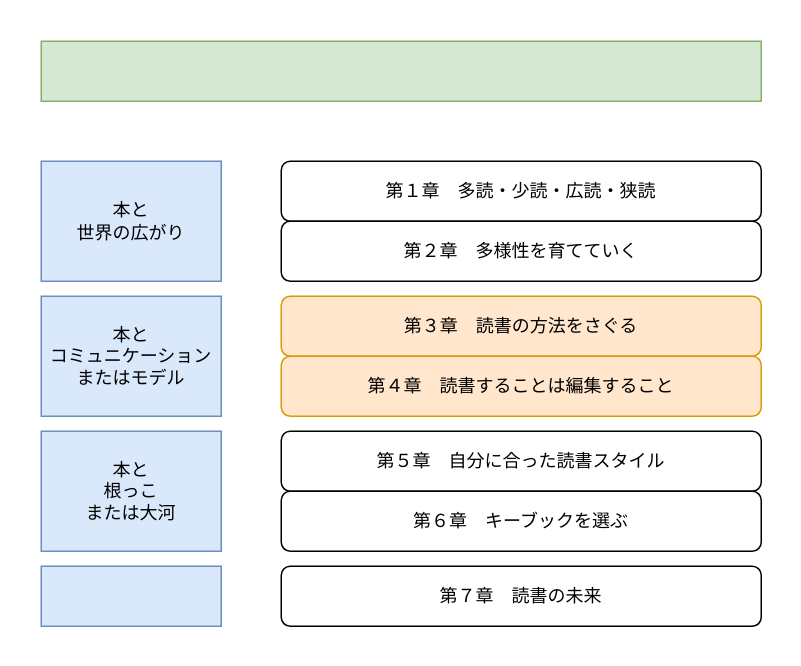
The diagram is 801 pixels wide and 666 high, and some of its shapes have lost their labels. The shapes that lost their labels are listed below. From the top down, each one's centre as x and y in pixels, then its label:
At point (400, 70): "多読術 目次".
At point (130, 595): "本と 地図と地層".
